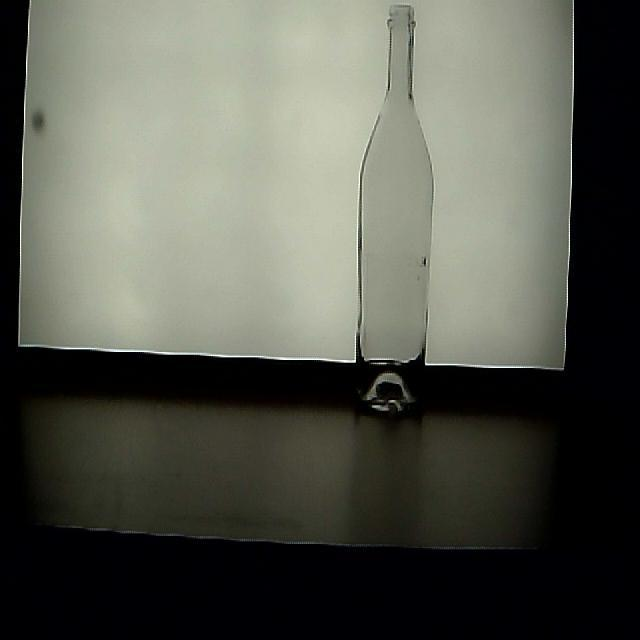Glass: (354, 3, 435, 428)
